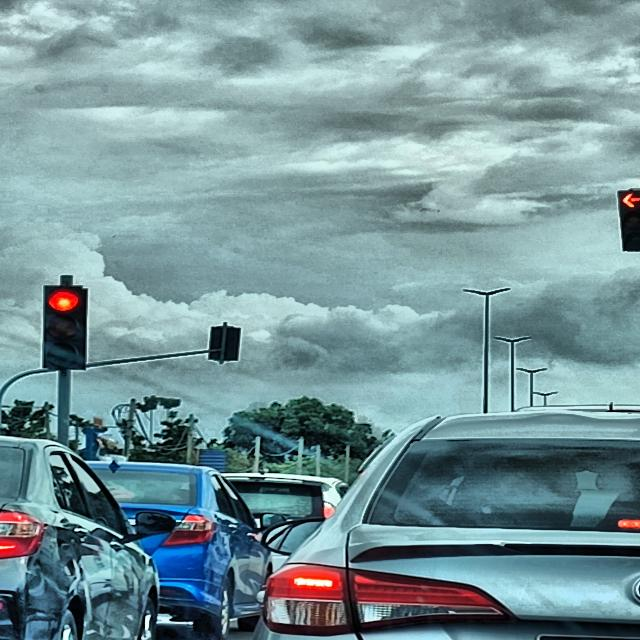red: (43, 286, 84, 370), (619, 190, 640, 248)
